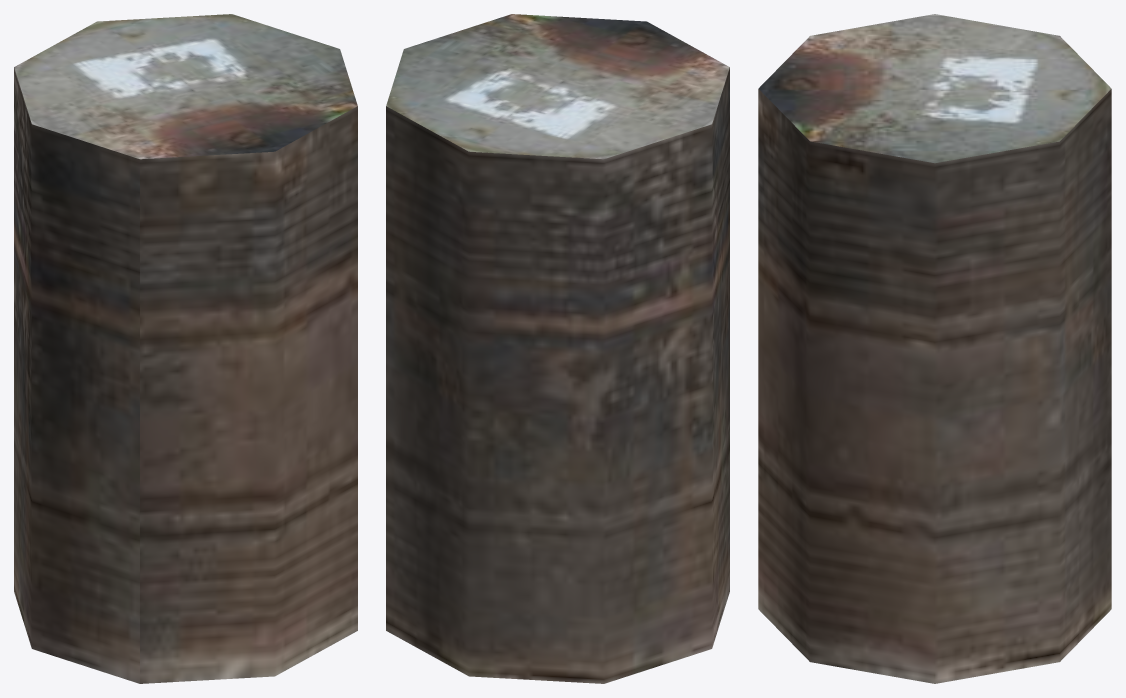
Rendered from alley_barrel.FBX.
The picture shows the model from 3 angles, left to right: view 1: azimuth 30°, elevation 25°; view 2: azimuth 150°, elevation 25°; view 3: azimuth 270°, elevation 25°; orthographic projection.
Parts seen in each view (by area): view 1: Cylinder001; view 2: Cylinder001; view 3: Cylinder001.
Part boxes in pixels (x1=…): Cylinder001: x1=14, y1=14, x2=357, y2=683; Cylinder001: x1=386, y1=14, x2=729, y2=683; Cylinder001: x1=758, y1=14, x2=1111, y2=683.
Bounding box in the file's own units: 32.71 × 53.2 × 32.71.
